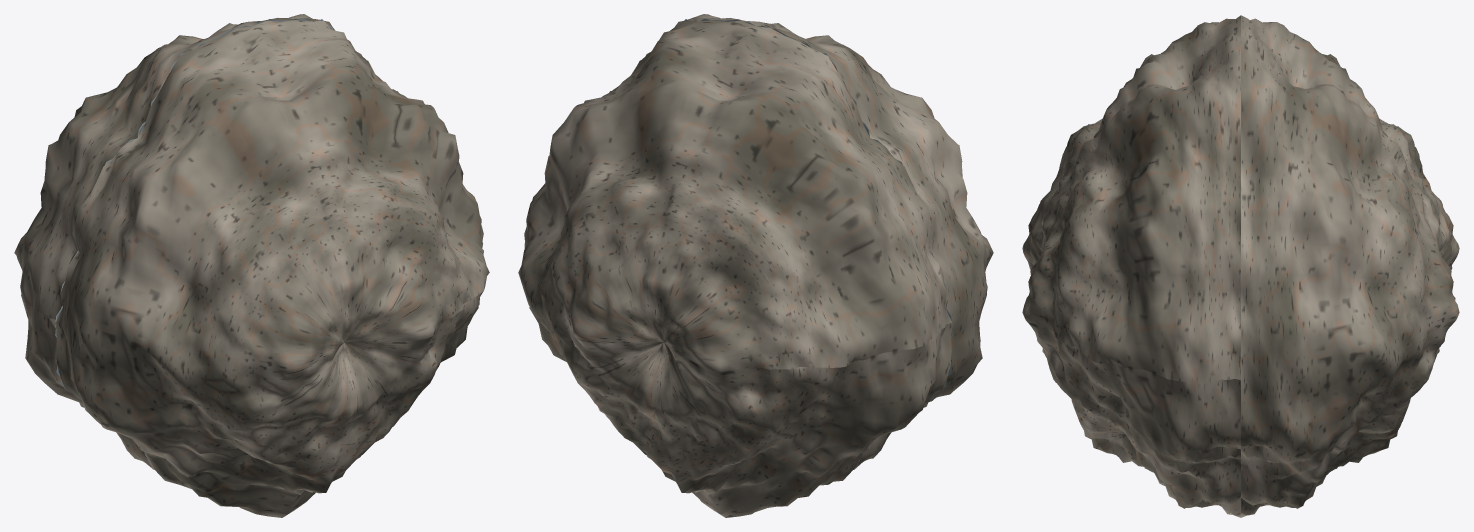
File: banded-agate-study-v2.glb
3 views of the same model, side by side, from view 1: azimuth 30°, elevation 25°; view 2: azimuth 150°, elevation 25°; view 3: azimuth 270°, elevation 25° (orthographic).
Parts seen in each view (by area): view 1: Closed_front, Closed_back; view 2: Closed_back, Closed_front; view 3: Closed_front, Closed_back.
Boxes of the visible parts, x1=… form: Closed_front: x1=55, y1=20, x2=489, y2=517; Closed_back: x1=14, y1=14, x2=383, y2=469; Closed_back: x1=518, y1=20, x2=952, y2=517; Closed_front: x1=613, y1=14, x2=993, y2=469; Closed_front: x1=1022, y1=15, x2=1240, y2=517; Closed_back: x1=1241, y1=15, x2=1459, y2=517.
Size of the model in its own units: 3.02 by 3.48 by 2.86.
8 materials, 3 textured.
